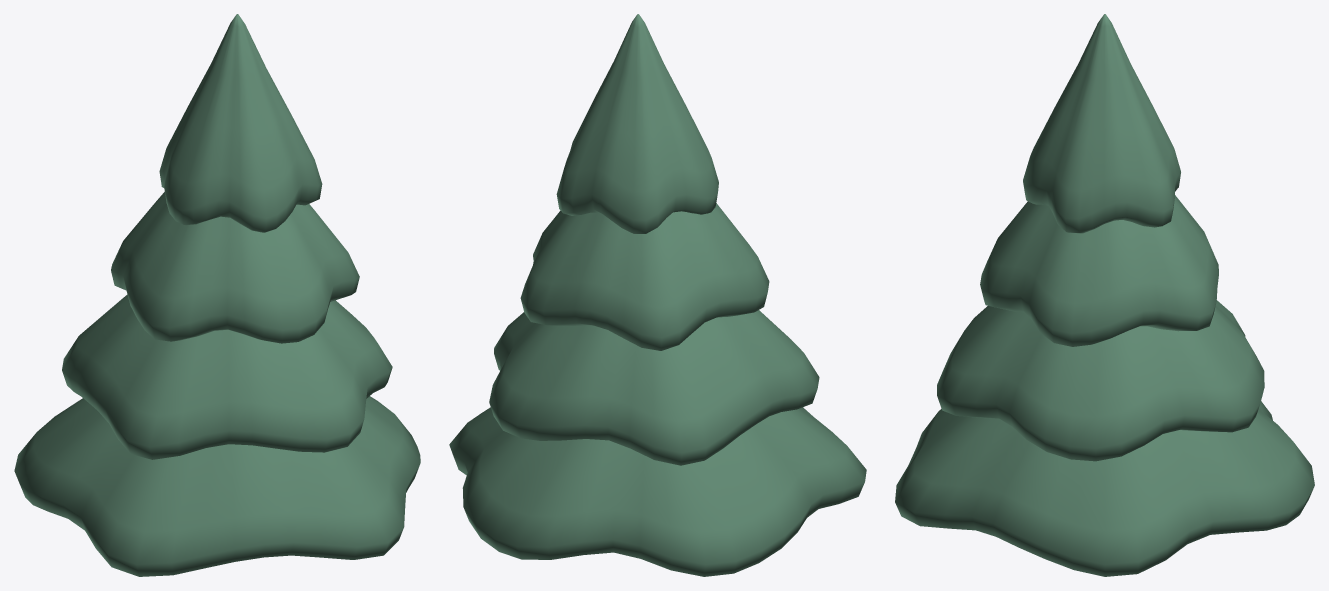
File: storybook_cedar_crown_v1.glb
3 renders of one model, left to right at view 1: azimuth 30°, elevation 25°; view 2: azimuth 150°, elevation 25°; view 3: azimuth 270°, elevation 25°, orthographic.
Parts seen in each view (by area): view 1: Cedar crown; view 2: Cedar crown; view 3: Cedar crown.
Part boxes in pixels (x1,y1,x2,y2): Cedar crown: [14, 14, 420, 576]; Cedar crown: [449, 14, 866, 576]; Cedar crown: [895, 14, 1314, 576].
Bounding box in the file's own units: 2.44 × 3.2 × 2.5.
